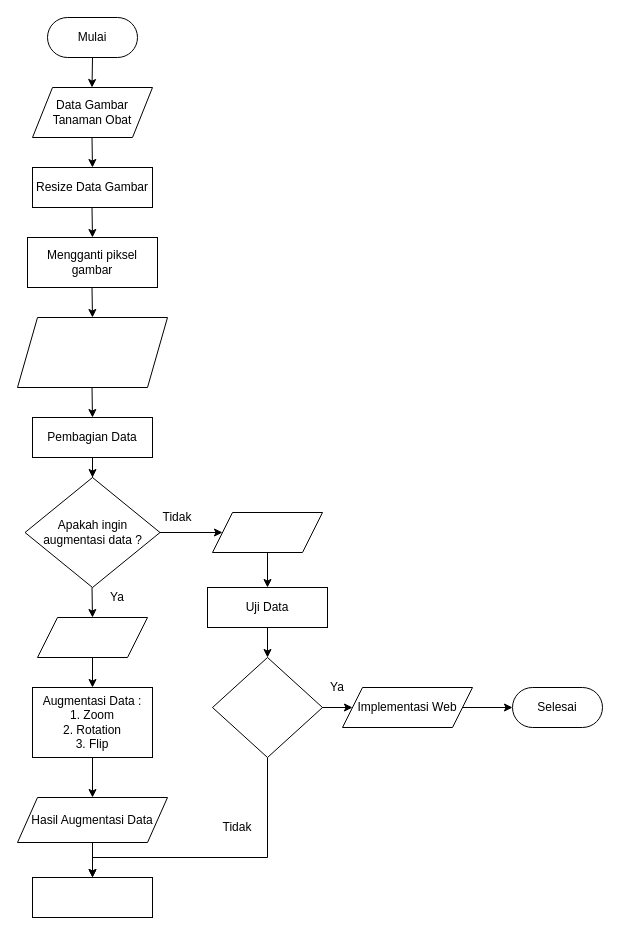
Some shapes in this 620 by 935 pixel diagram are drawn without their labels. The shapes that lost their labels are listed below. From the top down, each one's centre as x and y in pixels, then its label:
the point at 92,352: Gambar yang sudah di resize
the point at 267,532: Data Uji
the point at 92,637: Data Latih
the point at 267,707: Akurasi > 80 %
the point at 92,897: Pelatihan
